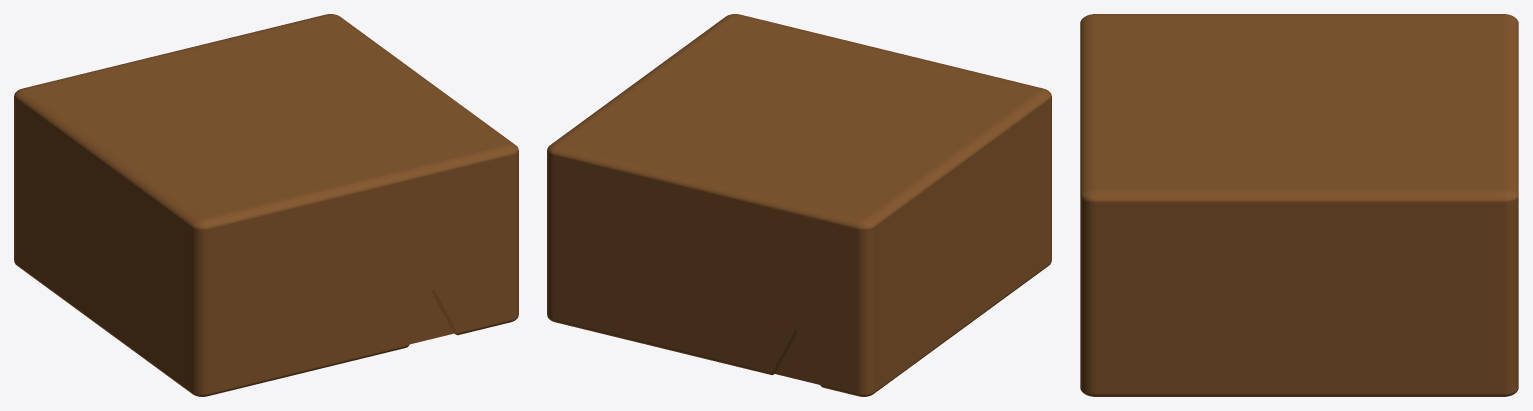
The model's file is shirtShoulderRagged2.fbx.
3 renders of one model, left to right at view 1: azimuth 30°, elevation 25°; view 2: azimuth 150°, elevation 25°; view 3: azimuth 270°, elevation 25°, orthographic. The views are drawn at different scales.
Parts seen in each view (by area): view 1: Upper Right Arm.001; view 2: Upper Right Arm.001; view 3: Upper Right Arm.001.
Part boxes in pixels (left/top/right/bottom): Upper Right Arm.001: left=14, top=14, right=518, bottom=396; Upper Right Arm.001: left=547, top=14, right=1051, bottom=396; Upper Right Arm.001: left=1080, top=14, right=1518, bottom=396.
Bounding box in the file's own units: 101 × 52.22 × 101.
